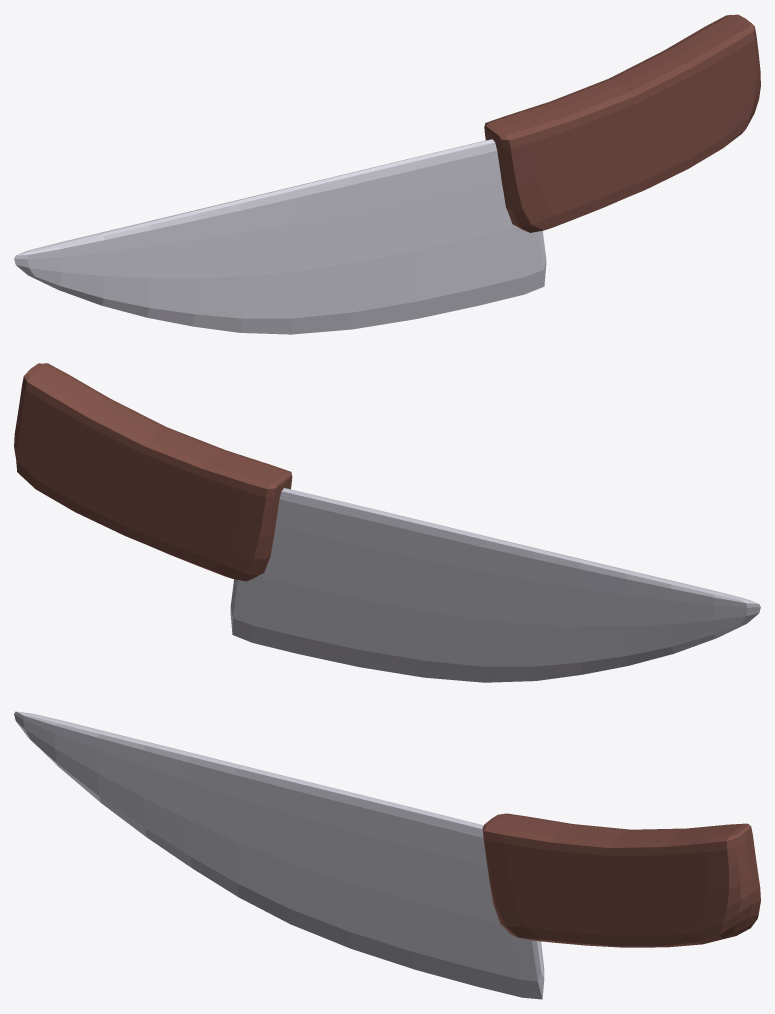
File: cuchillo.glb
3 views of the same model, one above another, from view 1: azimuth 30°, elevation 25°; view 2: azimuth 150°, elevation 25°; view 3: azimuth 330°, elevation 25° (orthographic).
Visible parts, largest first — view 1: cuchillo-rigid; view 2: cuchillo-rigid; view 3: cuchillo-rigid.
Boxes of the visible parts, x1,y1,x2,y2 form: cuchillo-rigid: (14,14,760,334); cuchillo-rigid: (14,363,760,682); cuchillo-rigid: (14,711,760,999).
Size of the model in its own units: 3.23 by 0.9239 by 0.1963.
Materials: 1 (1 with a texture image).
